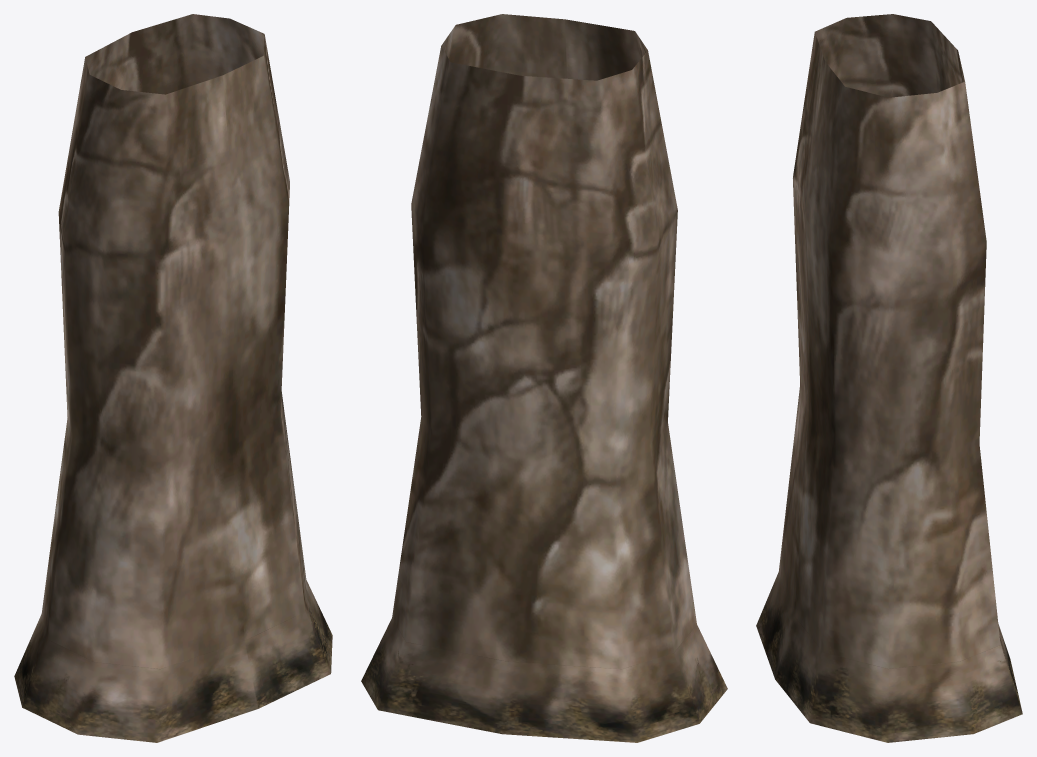
File: OVERHILL_A_01_LINE157.fbx
The picture shows the model from 3 angles, left to right: view 1: azimuth 30°, elevation 25°; view 2: azimuth 150°, elevation 25°; view 3: azimuth 270°, elevation 25°; orthographic projection. The views are drawn at different scales.
Parts seen in each view (by area): view 1: OVERHILL_A_01_LINE157; view 2: OVERHILL_A_01_LINE157; view 3: OVERHILL_A_01_LINE157.
Boxes of the visible parts, x1=… form: OVERHILL_A_01_LINE157: x1=14, y1=14, x2=332, y2=742; OVERHILL_A_01_LINE157: x1=361, y1=14, x2=727, y2=742; OVERHILL_A_01_LINE157: x1=756, y1=14, x2=1022, y2=742.
Size of the model in its own units: 31792 by 61100 by 24113.
Materials: 2 (2 with a texture image).
